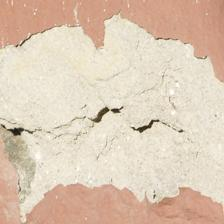Crack: (0, 53, 187, 88)
